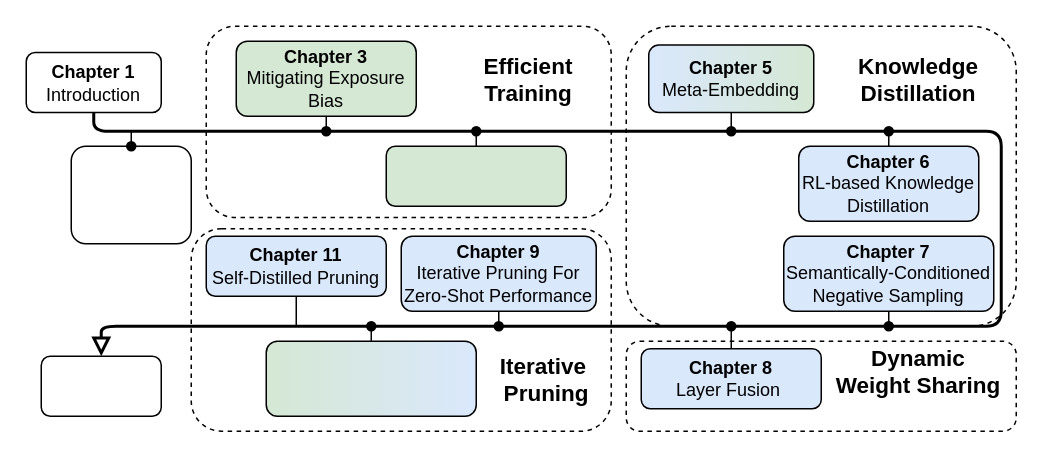
This 1044x458 diagram has some shape labels left out. The centre of each missing label's shape, as x and y in pixels:
"Chapter 10 Gradient Sparsification for Improving Fine-Tuning" goes at (370,378).
"Chapter 12 Conclusion" goes at (100,385).
"Chapter 2 Background and Related Work" goes at (130,194).
"Chapter 4 Error-Correcting Output Codes" goes at (475,175).
